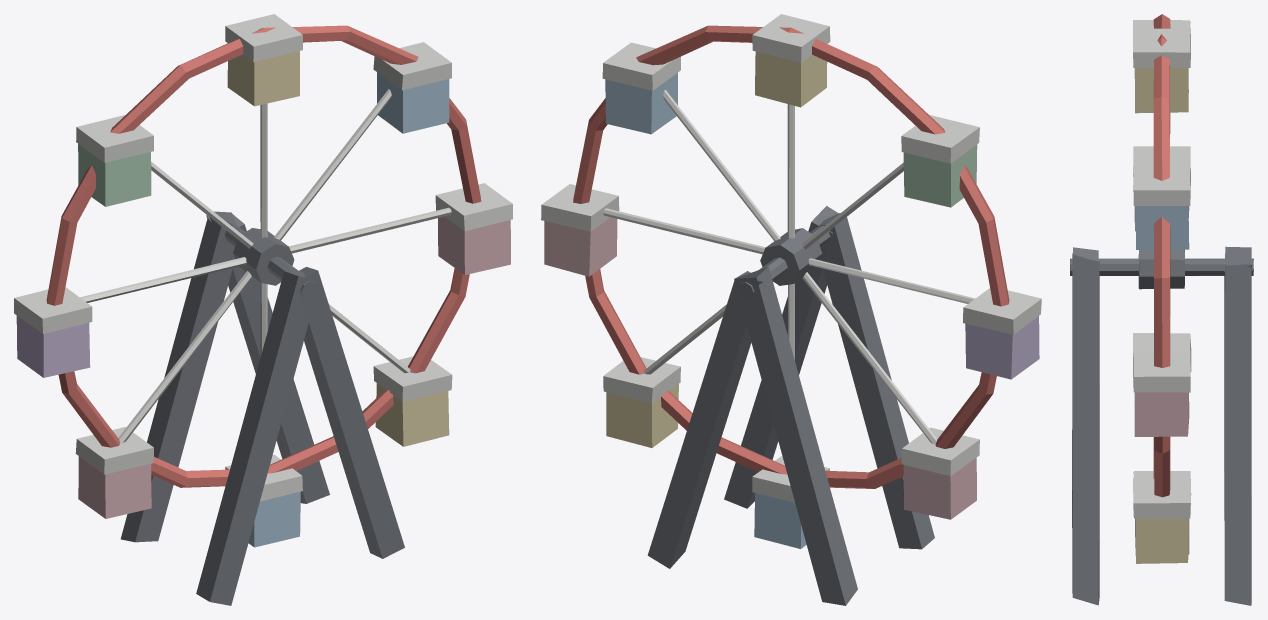
Rendered from ferriswheel.fbx.
3 views of the same model, side by side, from view 1: azimuth 30°, elevation 25°; view 2: azimuth 150°, elevation 25°; view 3: azimuth 270°, elevation 25° (orthographic).
Visible parts, largest first — view 1: FerrisWheel; view 2: FerrisWheel; view 3: FerrisWheel.
Part boxes in pixels (x1=…): FerrisWheel: x1=14, y1=14, x2=512, y2=605; FerrisWheel: x1=541, y1=14, x2=1041, y2=605; FerrisWheel: x1=1070, y1=14, x2=1253, y2=605.
Size of the model in its own units: 7.16 by 7.64 by 2.41.
